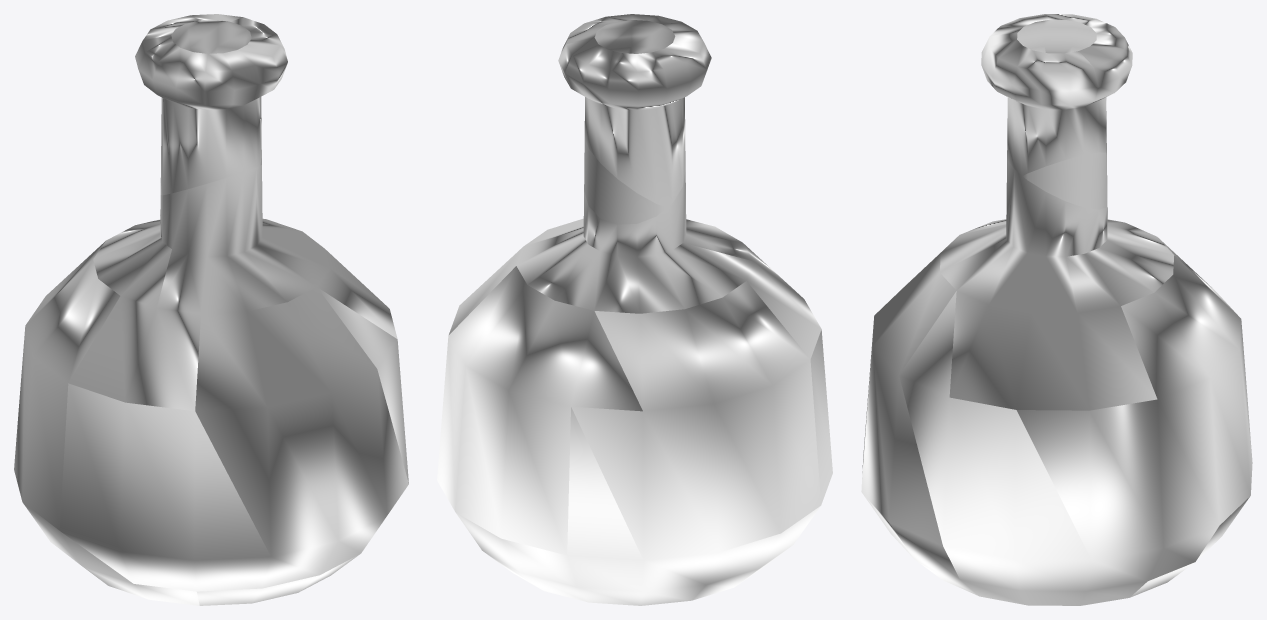
The model's file is Potion_Broken.fbx.
The picture shows the model from 3 angles, left to right: view 1: azimuth 30°, elevation 25°; view 2: azimuth 150°, elevation 25°; view 3: azimuth 270°, elevation 25°; orthographic projection.
Visible parts, largest first — view 1: polySurface53, polySurface45, polySurface55, polySurface48, polySurface43, polySurface63, polySurface60, polySurface37, polySurface67, polySurface56, polySurface62, polySurface64 (+1 smaller); view 2: polySurface43, polySurface41, polySurface66, polySurface48, polySurface60, polySurface55, polySurface58, polySurface56, polySurface50, polySurface63, polySurface57, polySurface67 (+3 smaller); view 3: polySurface37, polySurface39, polySurface41, polySurface62, polySurface53, polySurface55, polySurface48, polySurface58, polySurface57, polySurface56, polySurface50, polySurface66 (+1 smaller).
Boxes of the visible parts, x1,y1,x2,y2 form: polySurface53: (195, 287, 408, 588); polySurface45: (59, 383, 270, 591); polySurface55: (157, 165, 329, 313); polySurface48: (152, 17, 287, 195); polySurface43: (14, 241, 120, 530); polySurface63: (68, 296, 200, 410); polySurface60: (93, 221, 171, 307); polySurface37: (317, 287, 408, 483); polySurface67: (23, 503, 199, 605); polySurface56: (151, 14, 246, 53); polySurface62: (317, 249, 397, 338); polySurface64: (197, 554, 359, 605); polySurface43: (571, 281, 821, 560); polySurface41: (448, 266, 642, 555); polySurface66: (456, 407, 718, 605); polySurface48: (559, 14, 711, 207); polySurface60: (594, 243, 753, 313); polySurface55: (524, 170, 752, 261); polySurface58: (516, 229, 616, 310); polySurface56: (558, 37, 670, 110); polySurface50: (621, 43, 706, 103); polySurface63: (743, 243, 821, 358); polySurface57: (584, 139, 666, 224); polySurface67: (692, 506, 820, 600); polySurface37: (899, 291, 1147, 605); polySurface39: (1016, 399, 1219, 581); polySurface41: (1121, 255, 1252, 525); polySurface62: (949, 291, 1157, 410); polySurface53: (861, 242, 959, 579); polySurface55: (939, 159, 1107, 313); polySurface48: (981, 14, 1106, 175); polySurface58: (1066, 232, 1174, 313); polySurface57: (1023, 152, 1107, 209); polySurface56: (1079, 27, 1132, 101); polySurface50: (1043, 14, 1114, 53); polySurface66: (1130, 497, 1249, 597).
Size of the model in its own units: 0.0202 by 0.0292 by 0.0202.
1 material, 1 textured.
